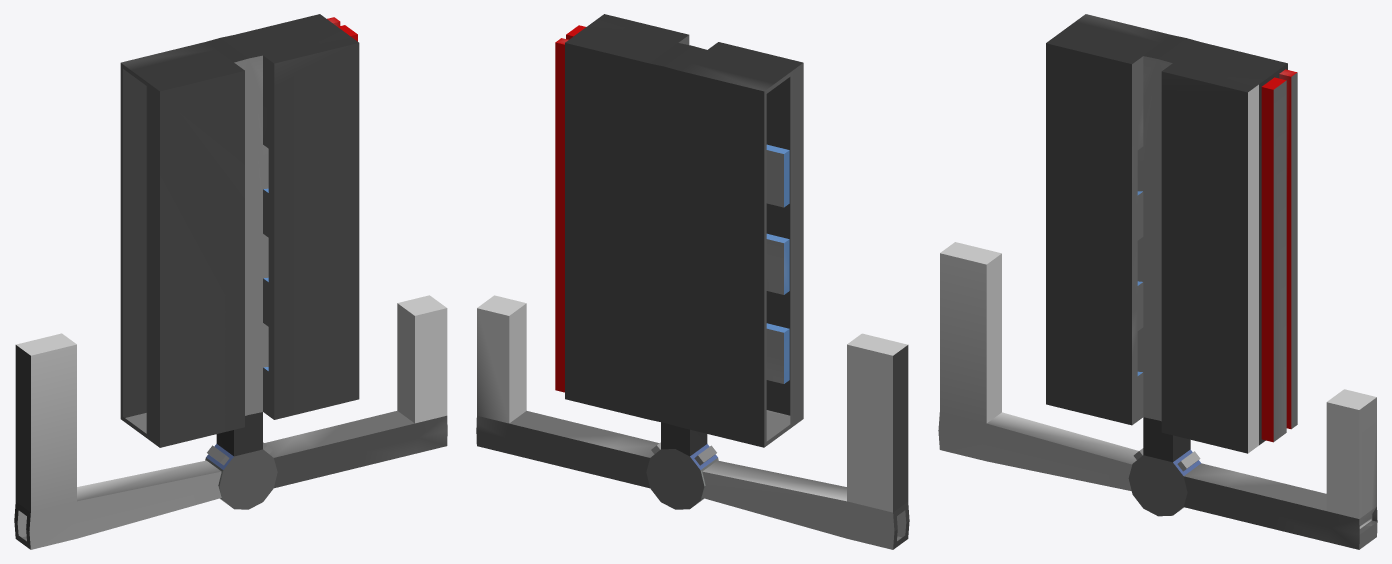
The model's file is Space Station.dae.
3 renders of one model, left to right at view 1: azimuth 30°, elevation 25°; view 2: azimuth 150°, elevation 25°; view 3: azimuth 330°, elevation 25°, orthographic.
Parts seen in each view (by area): view 1: Cylinder; view 2: Cylinder; view 3: Cylinder.
Boxes of the visible parts, x1,y1,x2,y2 form: Cylinder: [14, 14, 447, 549]; Cylinder: [476, 14, 909, 549]; Cylinder: [938, 14, 1377, 549].
Size of the model in its own units: 245 by 40.09 by 253.
